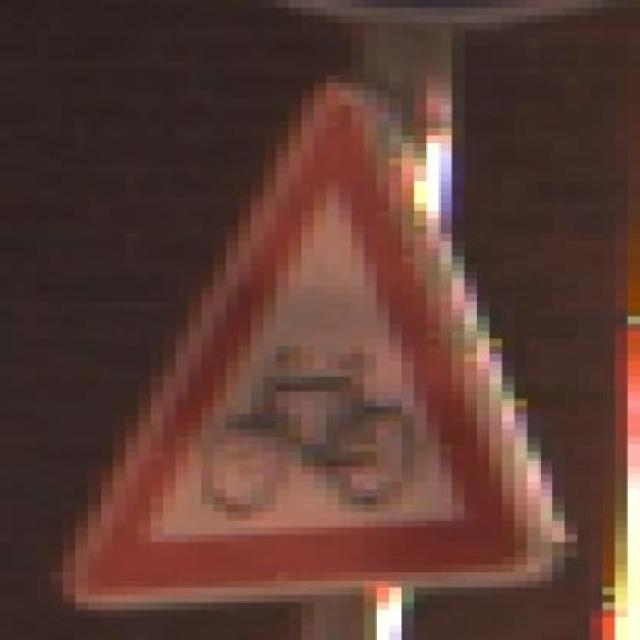CYCLE ROUTE AHEAD WARNING: (62, 75, 578, 618)
